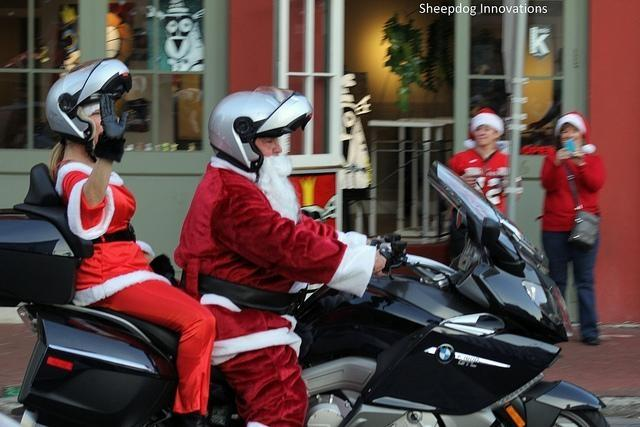motorcycle: (0, 156, 608, 422)
